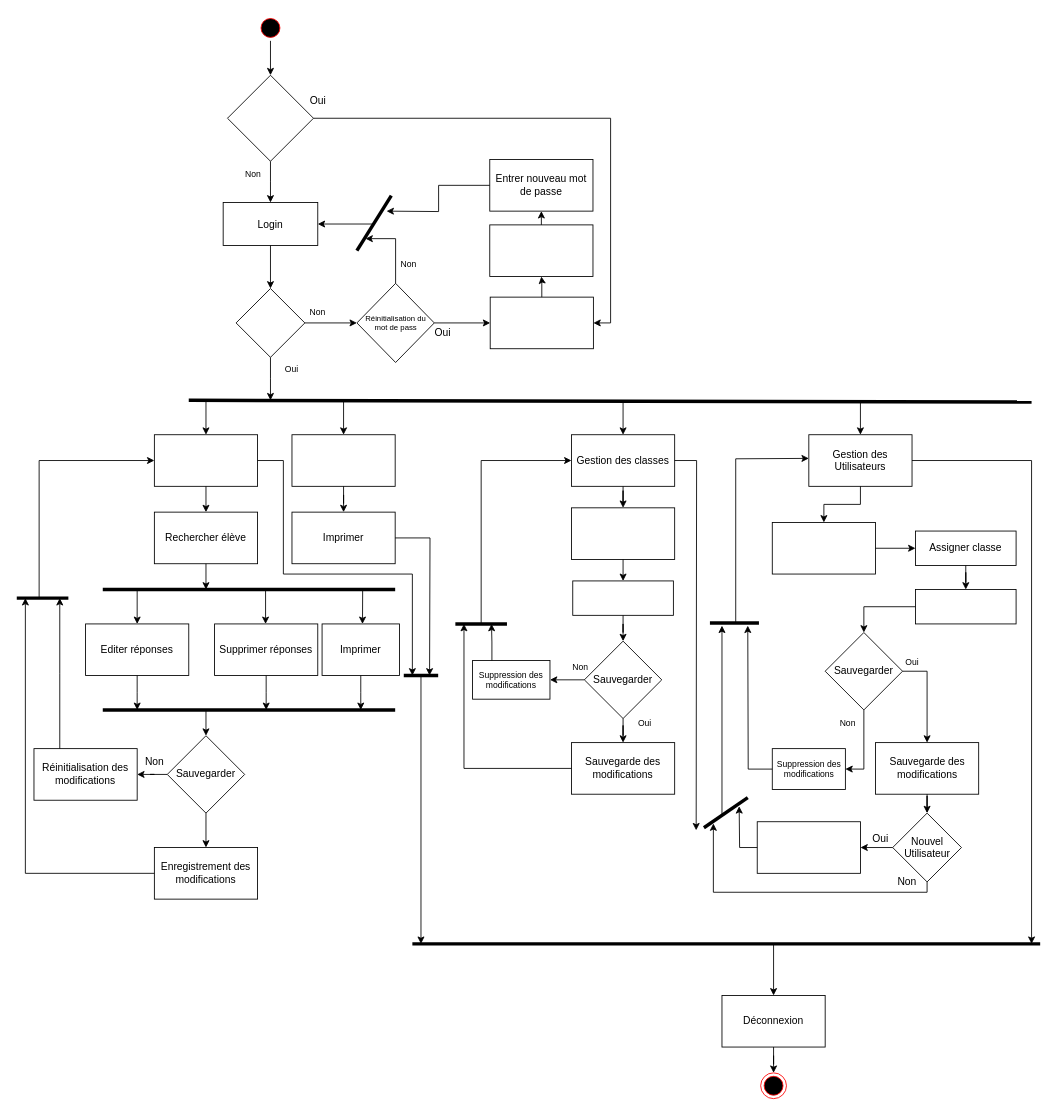
The diagram is 1057 pixels wide and 1114 high, and some of its shapes have lost their labels. Here are the shapes that lost their labels. From the top down, the centre of each, then its label:
At pixel 270 117: "Première utilisation".
At pixel 541 250: "Réinitialisation du mot de passe".
At pixel 270 322: "Login valid".
At pixel 541 322: "Réception par email d'un lien de réinitialisation de mot de passe".
At pixel 206 460: "Consulter réponses".
At pixel 343 460: "Consulter Statistiques".
At pixel 623 533: "Ajouter / Supprimer / Editer classe".
At pixel 823 548: "Ajouter / Editer / Supprimer Utilisateurs".
At pixel 622 597: "Assigner enseignant élèves".
At pixel 965 606: "Assigner Fonction".
At pixel 808 847: "Envoie d'un email d'initialisation de mot de passe".
